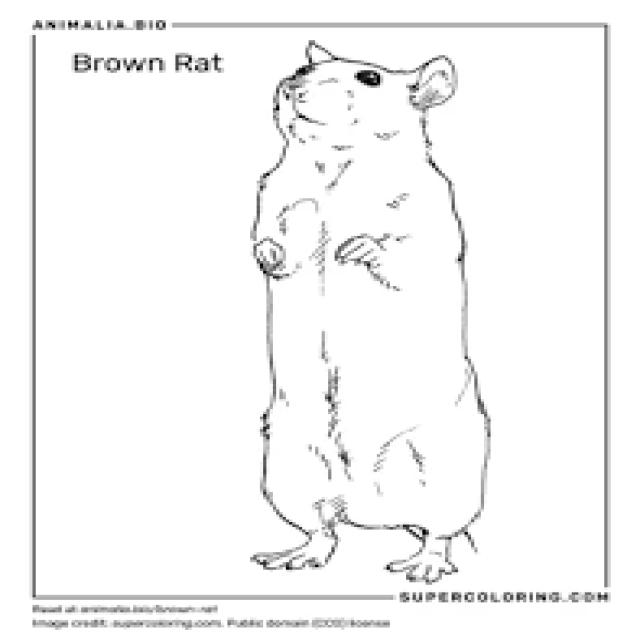rat: (247, 38, 490, 582)
